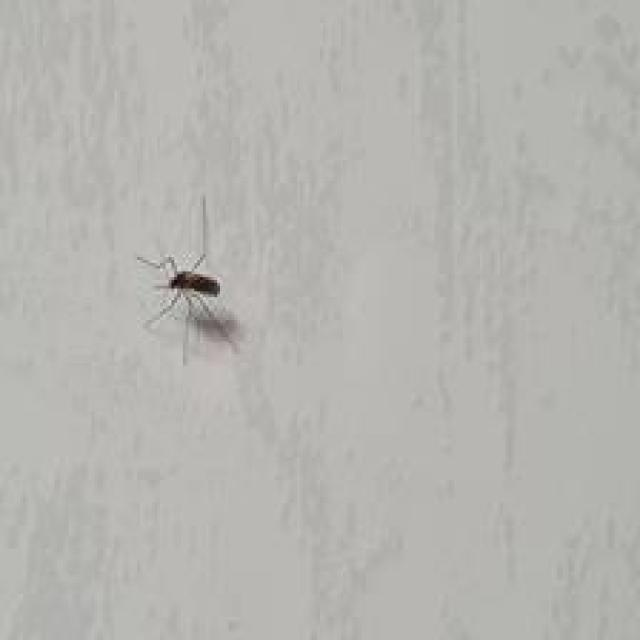Culex: (134, 194, 240, 366)
